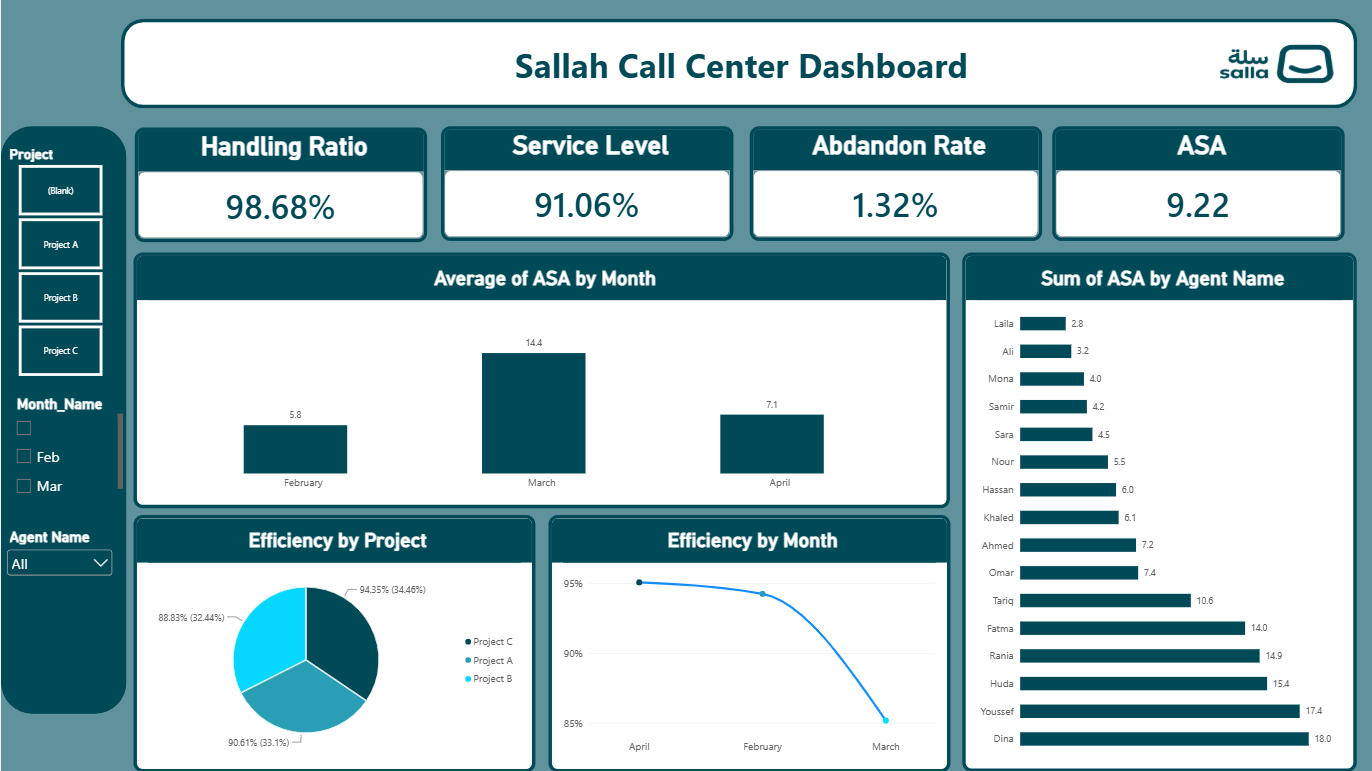

This screenshot's page, from the dashboard's own definition file:
{"tool":"powerbi","page":{"name":"Overview","canvas":[1920,1080],"ordinal":1},"visuals":[{"type":"shape","box":[167.9,26.8,1725,125],"z":0},{"type":"shape","box":[0,176.8,175,819.6],"z":1000},{"type":"image","box":[1670,0,222,178],"z":2000},{"type":"actionButton","box":[175,44.6,1717.9,89.3],"z":3000},{"type":"cardVisual","title":"Handling Ratio","fields":{"Data":["sallah dataset.Handling Calls Ratio"]},"box":[186,178,408,160],"z":4000},{"type":"cardVisual","title":"Service Level","fields":{"Data":["sallah dataset.Service Level"]},"box":[614,176,408,160],"z":5000},{"type":"cardVisual","title":"Abdandon Rate","fields":{"Data":["sallah dataset.Abdandon Rate"]},"box":[1044,176,408,160],"z":6000},{"type":"cardVisual","title":"ASA","fields":{"Data":["Avg(sallah dataset.ASA)"]},"box":[1466,176,408,160],"z":7000},{"type":"columnChart","title":"Average of ASA by Month","fields":{"Category":["sallah dataset.Date.Variation.Date Hierarchy.Month","sallah dataset.Day Name"],"Y":["Avg(sallah dataset.ASA)"]},"box":[185.7,351.8,1139.3,357.1],"z":8000},{"type":"pieChart","fields":{"Category":["sallah dataset.Project"],"Y":["sallah dataset.Efficiency"]},"box":[185.7,717.9,560.7,358.9],"z":9000},{"type":"lineChart","fields":{"Category":["sallah dataset.Date.Variation.Date Hierarchy.Month"],"Y":["sallah dataset.Efficiency"]},"box":[764.3,717.9,560.7,358.9],"z":10000},{"type":"clusteredBarChart","title":"Sum of ASA by Agent Name","fields":{"Category":["sallah dataset.Agent Name"],"Y":["Avg(sallah dataset.ASA)"]},"box":[1341.1,351.8,550,725],"z":11000},{"type":"slicer","fields":{"Values":["sallah dataset.Month_Name"]},"box":[10.7,548.2,164.3,166.1],"z":12000},{"type":"slicer","fields":{"Values":["sallah dataset.Project"]},"box":[0,200,164.3,330.4],"z":13000},{"type":"slicer","fields":{"Values":["sallah dataset.Agent Name"]},"box":[0,732.1,164.3,166.1],"z":14000}]}

Visuals, with their boxes in screenshot pixels (x1, y1, x2, y2), scaled from the page's 1920x1080 canvas onto the 1372x771 screenshot:
shape: 120, 19, 1353, 108
shape: 0, 126, 125, 711
image: 1193, 0, 1352, 127
actionButton: 125, 32, 1353, 96
"Handling Ratio" cardVisual: 133, 127, 424, 241
"Service Level" cardVisual: 439, 126, 730, 240
"Abdandon Rate" cardVisual: 746, 126, 1038, 240
"ASA" cardVisual: 1048, 126, 1339, 240
"Average of ASA by Month" columnChart: 133, 251, 947, 506
pieChart - sallah dataset.Project x sallah dataset.Efficiency: 133, 513, 533, 769
lineChart - sallah dataset.Date.Variation.Date Hierarchy.Month x sallah dataset.Efficiency: 546, 513, 947, 769
"Sum of ASA by Agent Name" clusteredBarChart: 958, 251, 1351, 769
slicer - sallah dataset.Month_Name: 8, 391, 125, 510
slicer - sallah dataset.Project: 0, 143, 117, 379
slicer - sallah dataset.Agent Name: 0, 523, 117, 641
